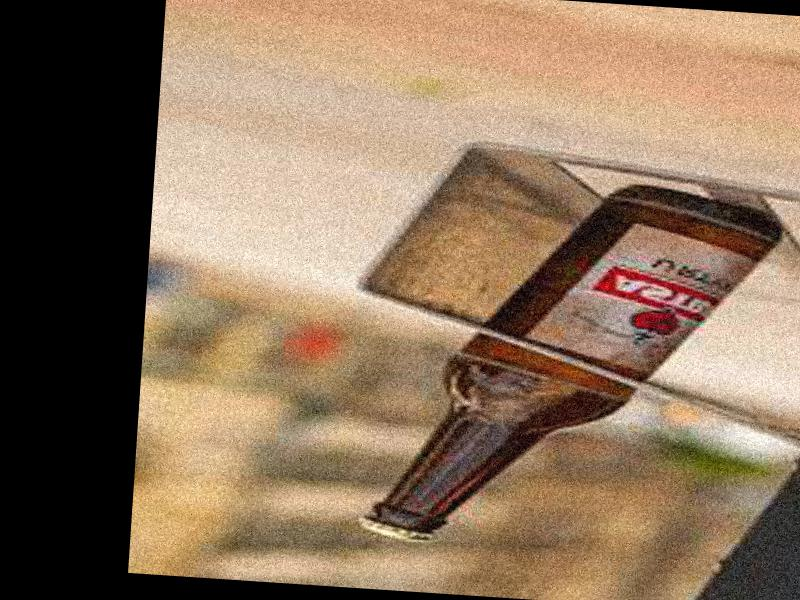Beer: (354, 166, 788, 566)
